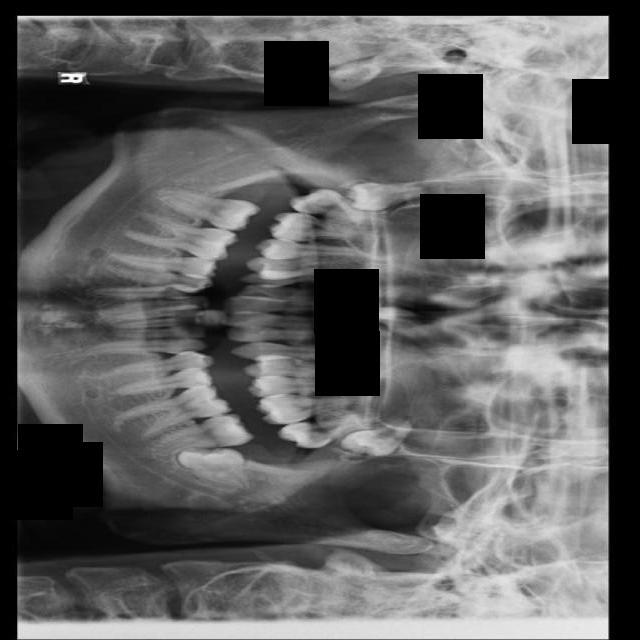3M ESPE Implant: (344, 182, 421, 213)
73: (53, 594, 68, 598)
BioHorizons Implant: (276, 410, 384, 453)
BioLife Implant: (337, 413, 418, 469)
Biomet 3i Implant: (171, 431, 261, 494)
Blue Sky Bio Implant: (153, 411, 254, 459)
Caries: (288, 183, 395, 233)
Implant: (155, 186, 262, 237)
